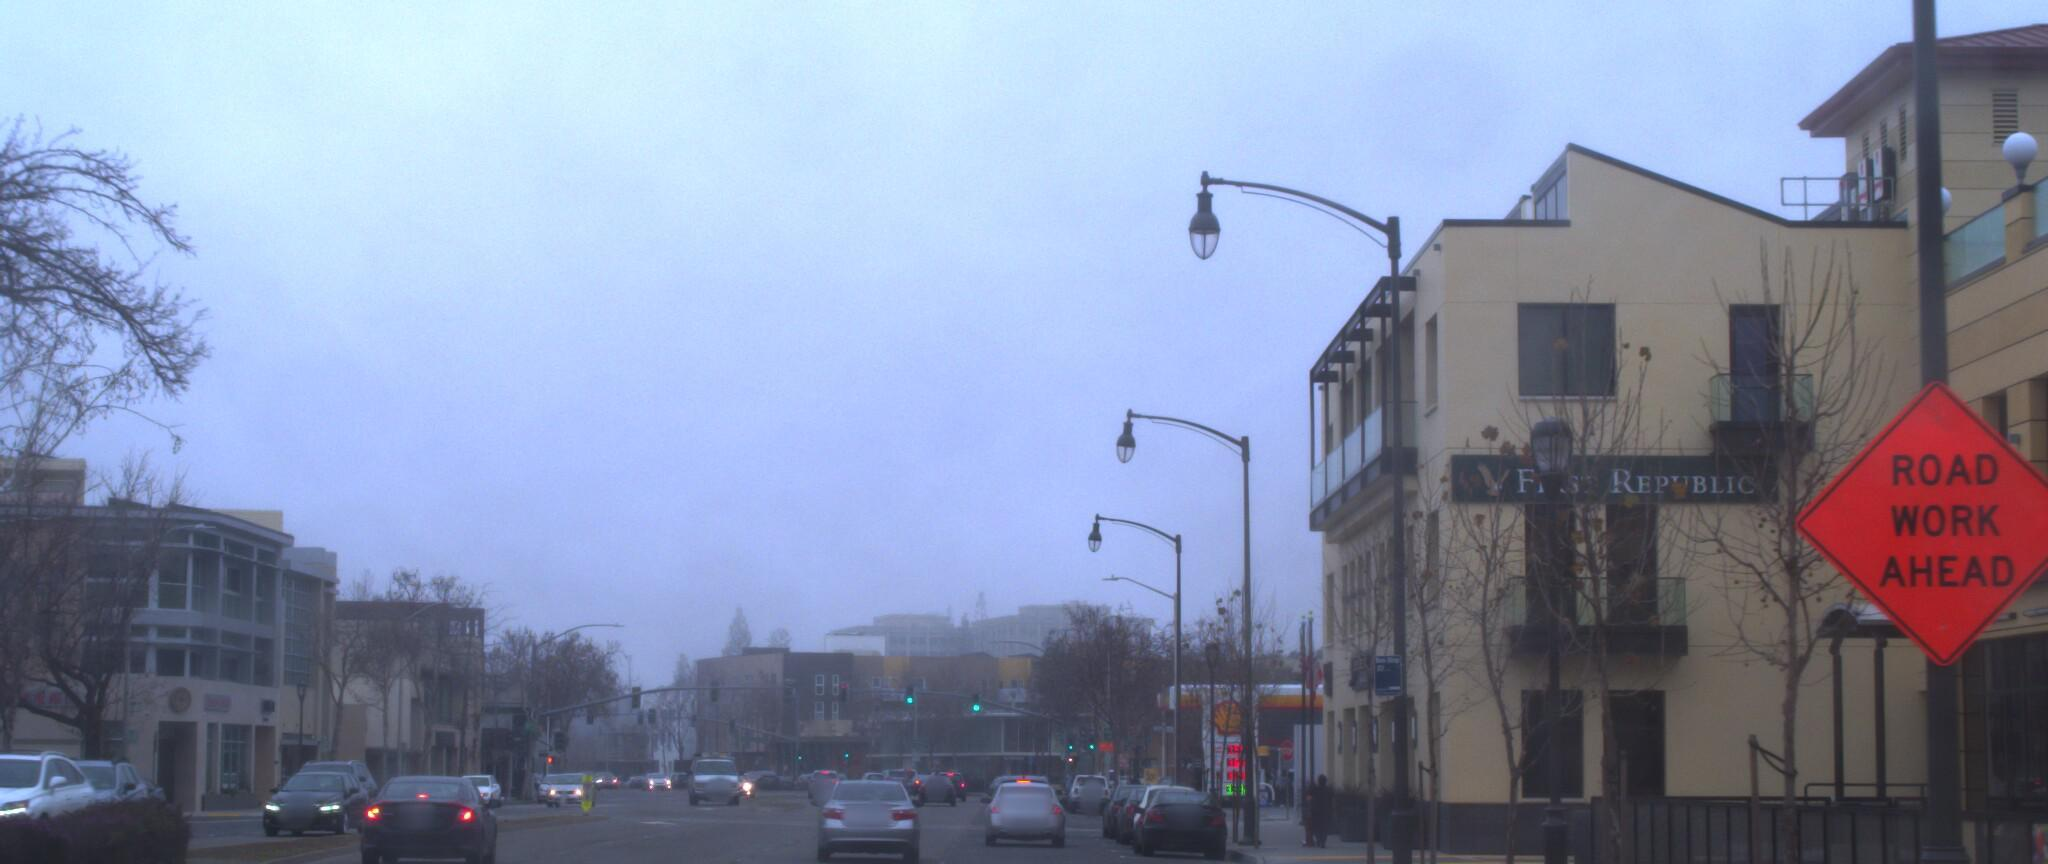car: (347, 761, 505, 864), (0, 732, 123, 854), (807, 757, 923, 861), (1130, 780, 1226, 852), (263, 773, 370, 830), (977, 773, 1064, 841)
